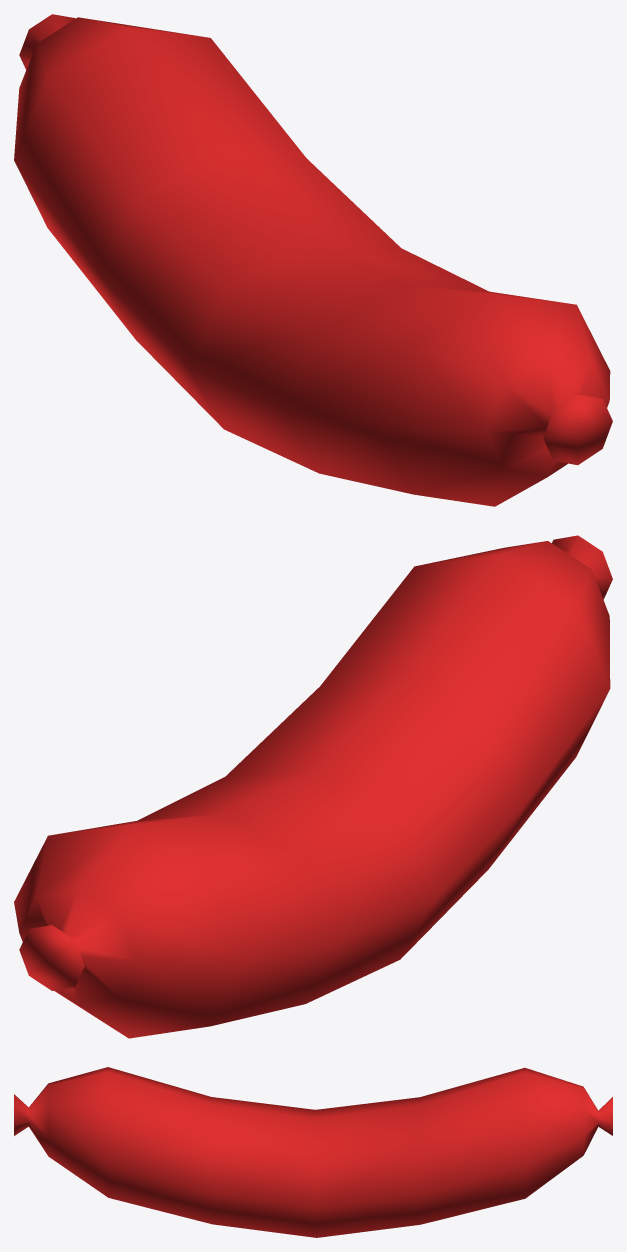
The model's file is salsiccia.fbx.
3 views of the same model, one above another, from view 1: azimuth 30°, elevation 25°; view 2: azimuth 150°, elevation 25°; view 3: azimuth 270°, elevation 25° (orthographic). The views are drawn at different scales.
Parts seen in each view (by area): view 1: Cylinder.008; view 2: Cylinder.008; view 3: Cylinder.008.
Part boxes in pixels (x1=…): Cylinder.008: x1=14, y1=14, x2=612, y2=506; Cylinder.008: x1=14, y1=535, x2=612, y2=1038; Cylinder.008: x1=14, y1=1067, x2=612, y2=1237.
Size of the model in its own units: 5.11 by 5.45 by 18.67.
